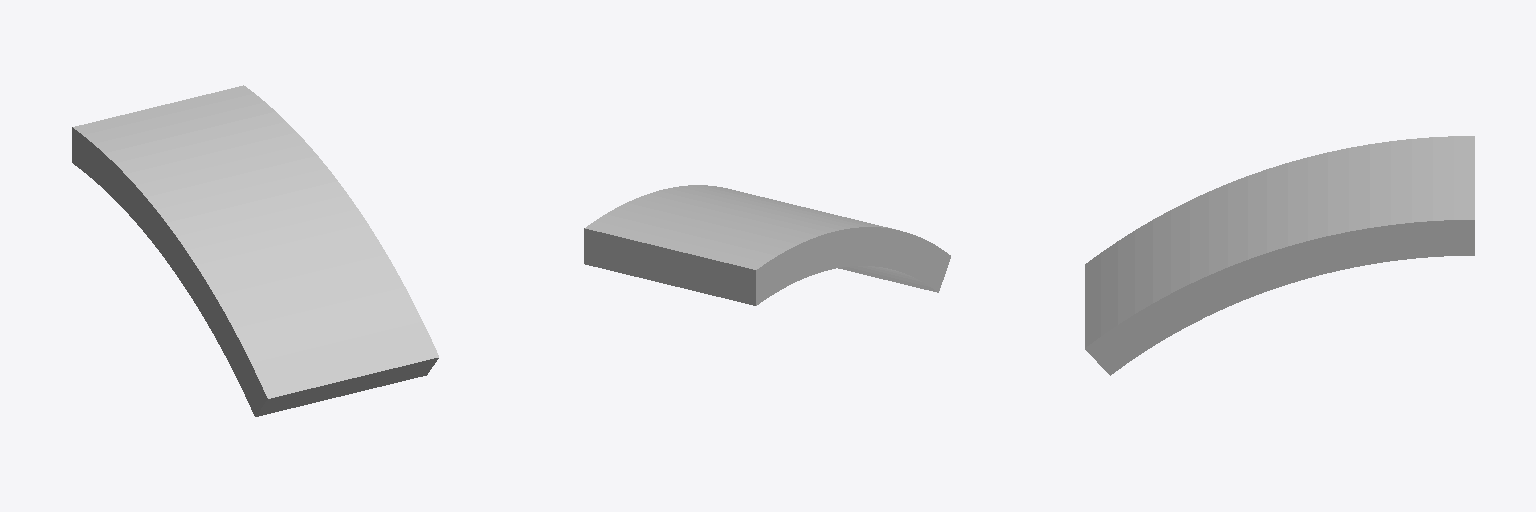
The model's file is tri1_deformed.obj.
3 renders of one model, left to right at view 1: azimuth 30°, elevation 25°; view 2: azimuth 150°, elevation 25°; view 3: azimuth 270°, elevation 25°, orthographic.
Visible parts, largest first — view 1: Surface; view 2: Surface; view 3: Surface.
Part boxes in pixels (x1,y1,x2,y2): Surface: (72,85,438,416); Surface: (584,185,950,305); Surface: (1085,136,1474,375).
Size of the model in its own units: 250 by 218 by 493.